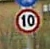limite 10: (13, 7, 41, 35)
